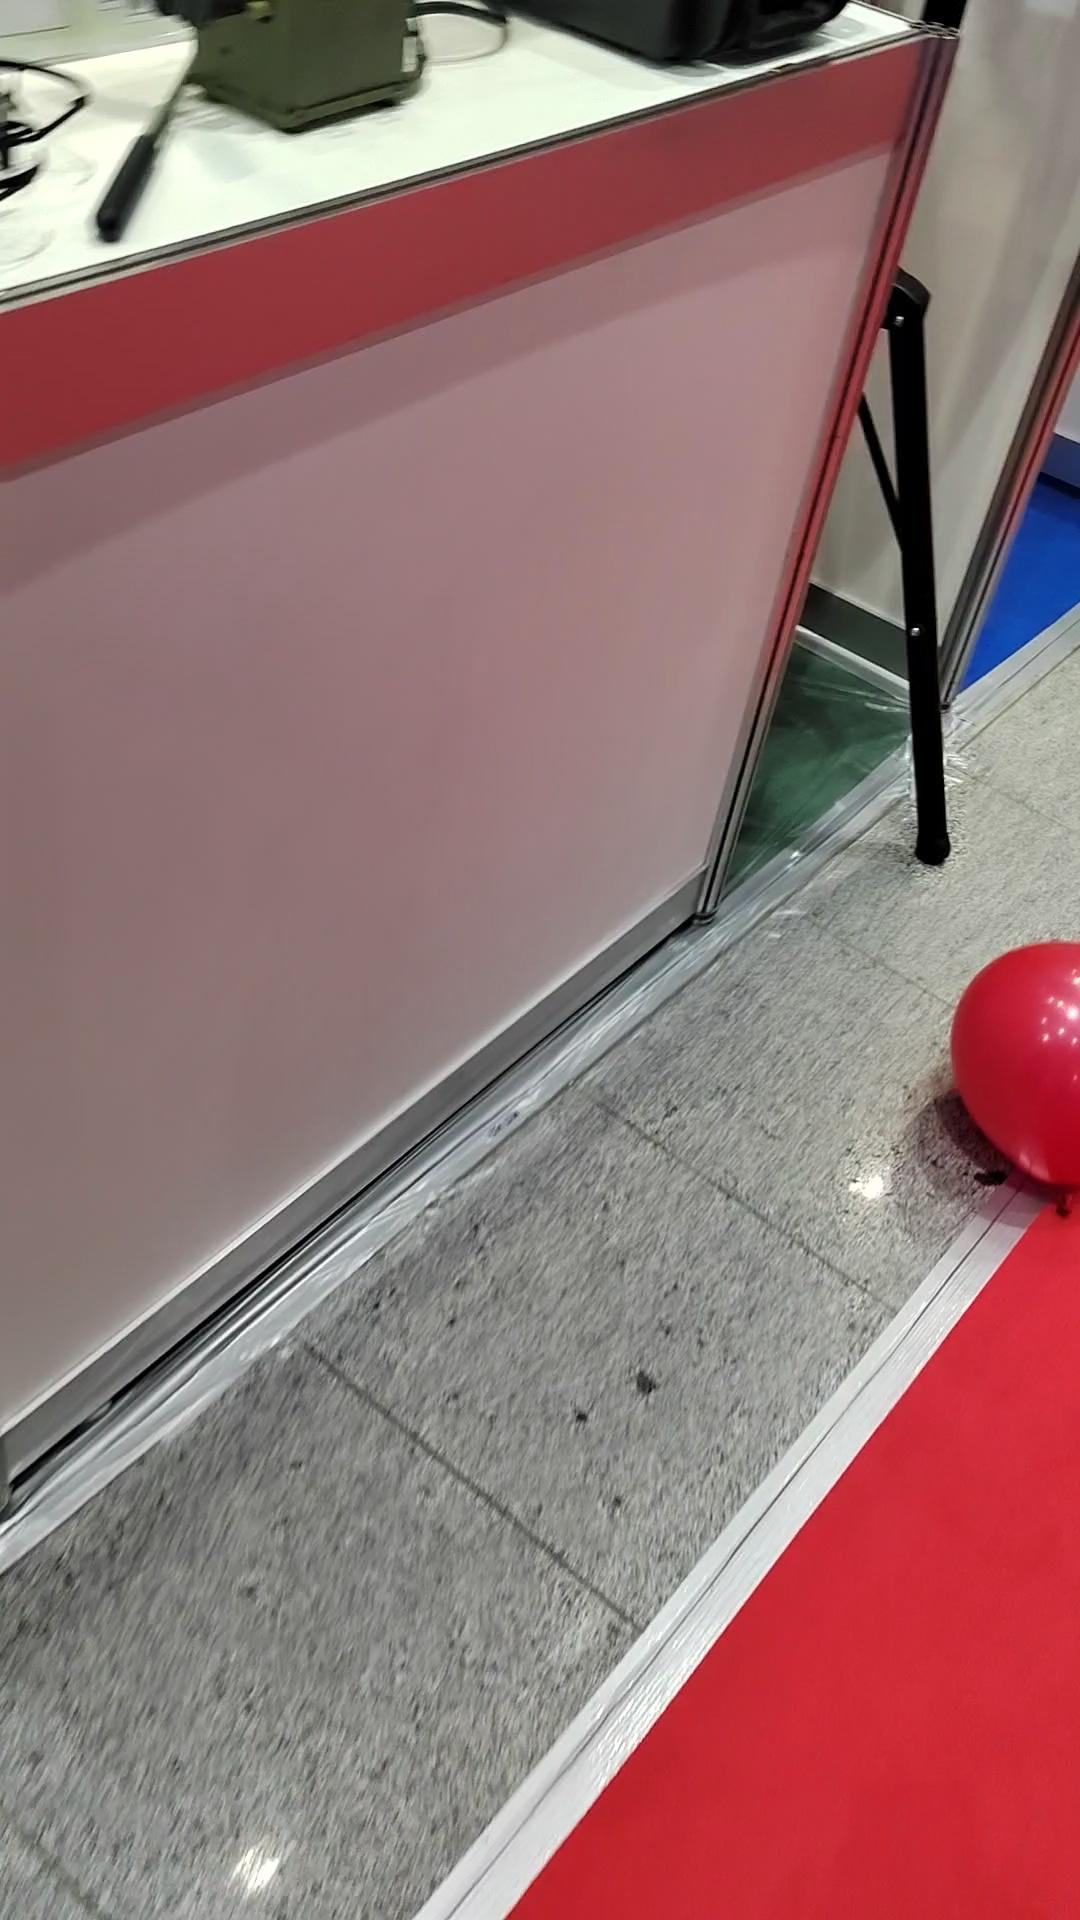red: (947, 927, 1080, 1217)
